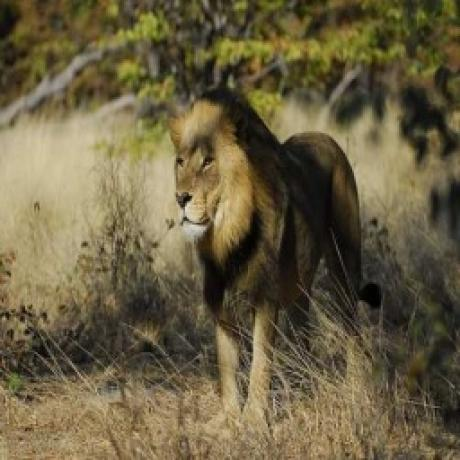Lion: (164, 83, 386, 415)
